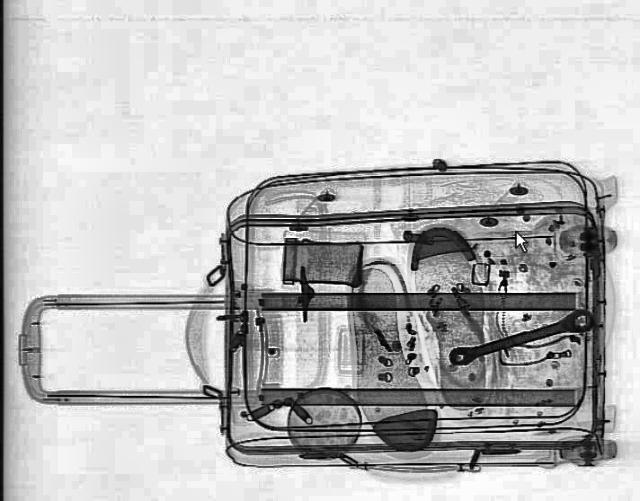Wrench: (443, 306, 599, 372)
